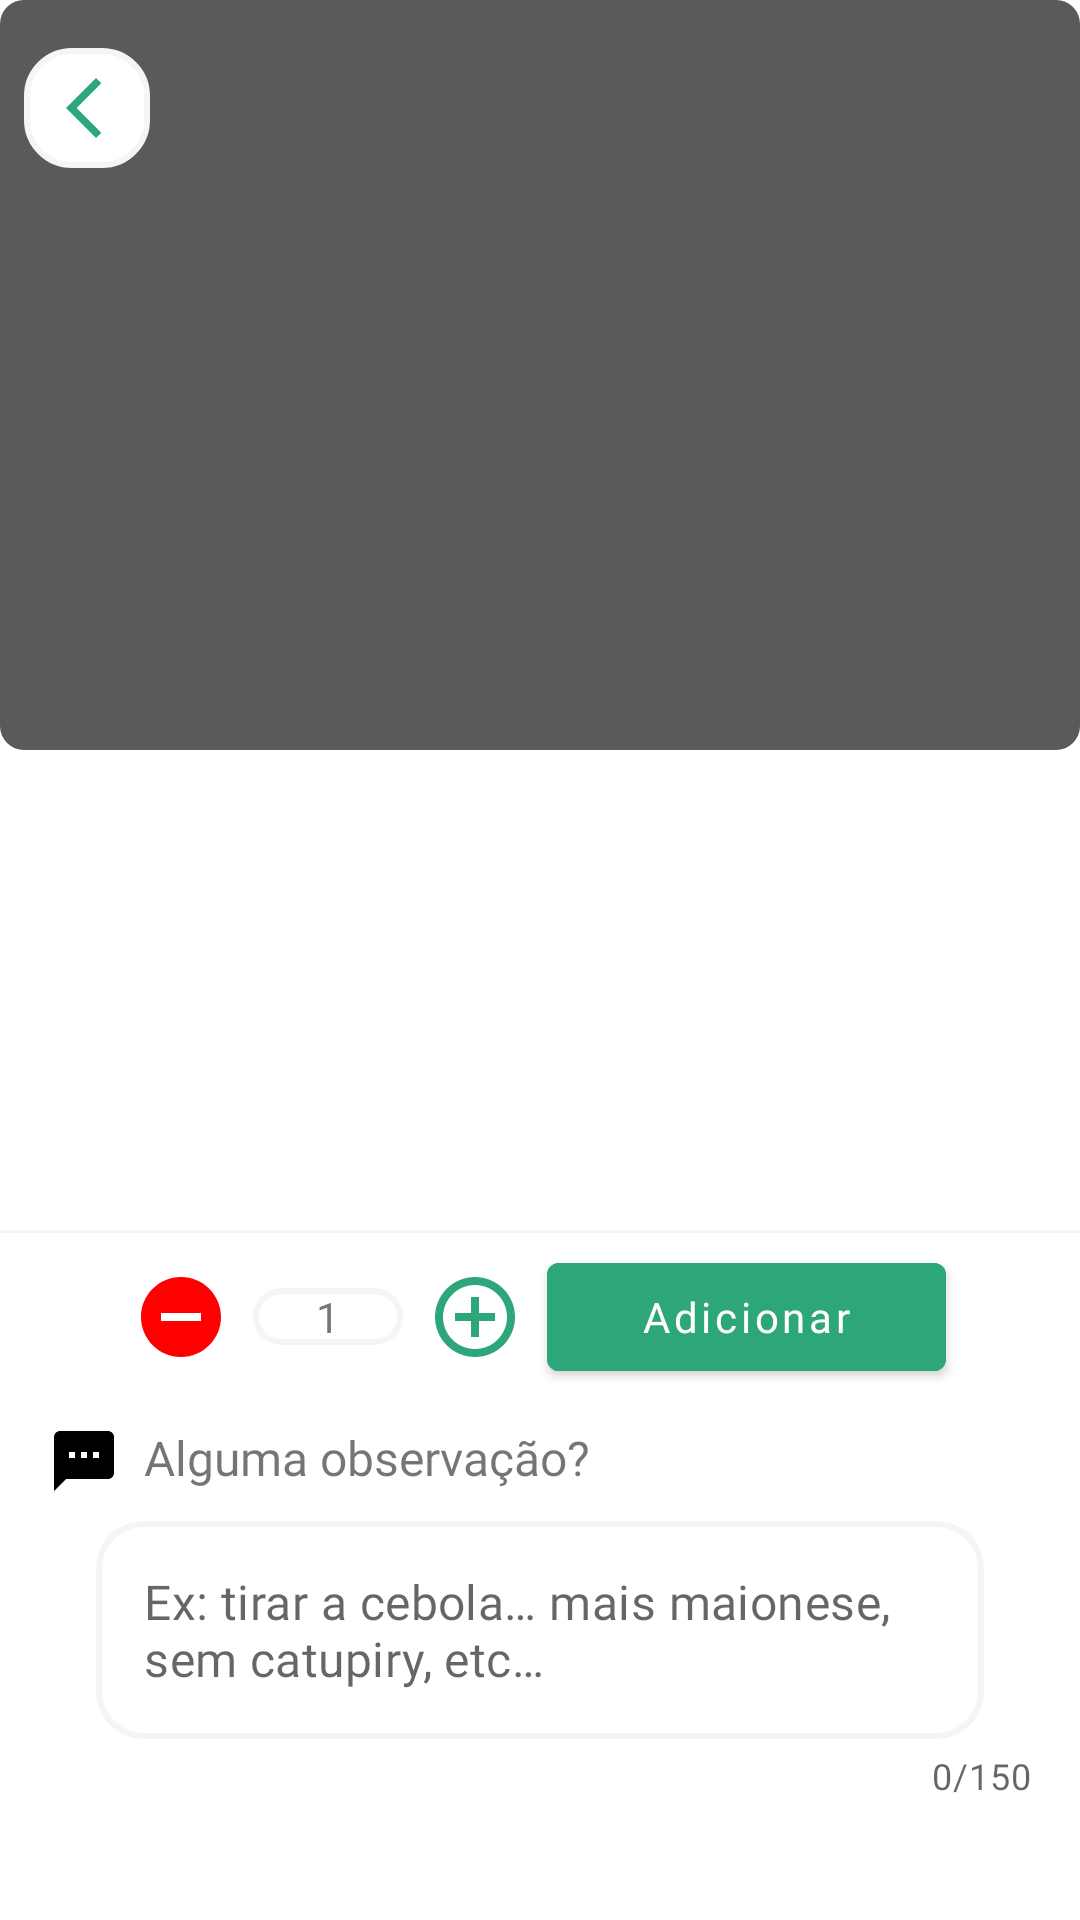

Screen size 1080*1920. Icon name, then its box in pixels as detection(x1, y1, x2, y2):
add circle: detection(435, 1277, 515, 1357)
arrow back: detection(24, 48, 150, 168)
remove circle: detection(141, 1277, 221, 1357)
